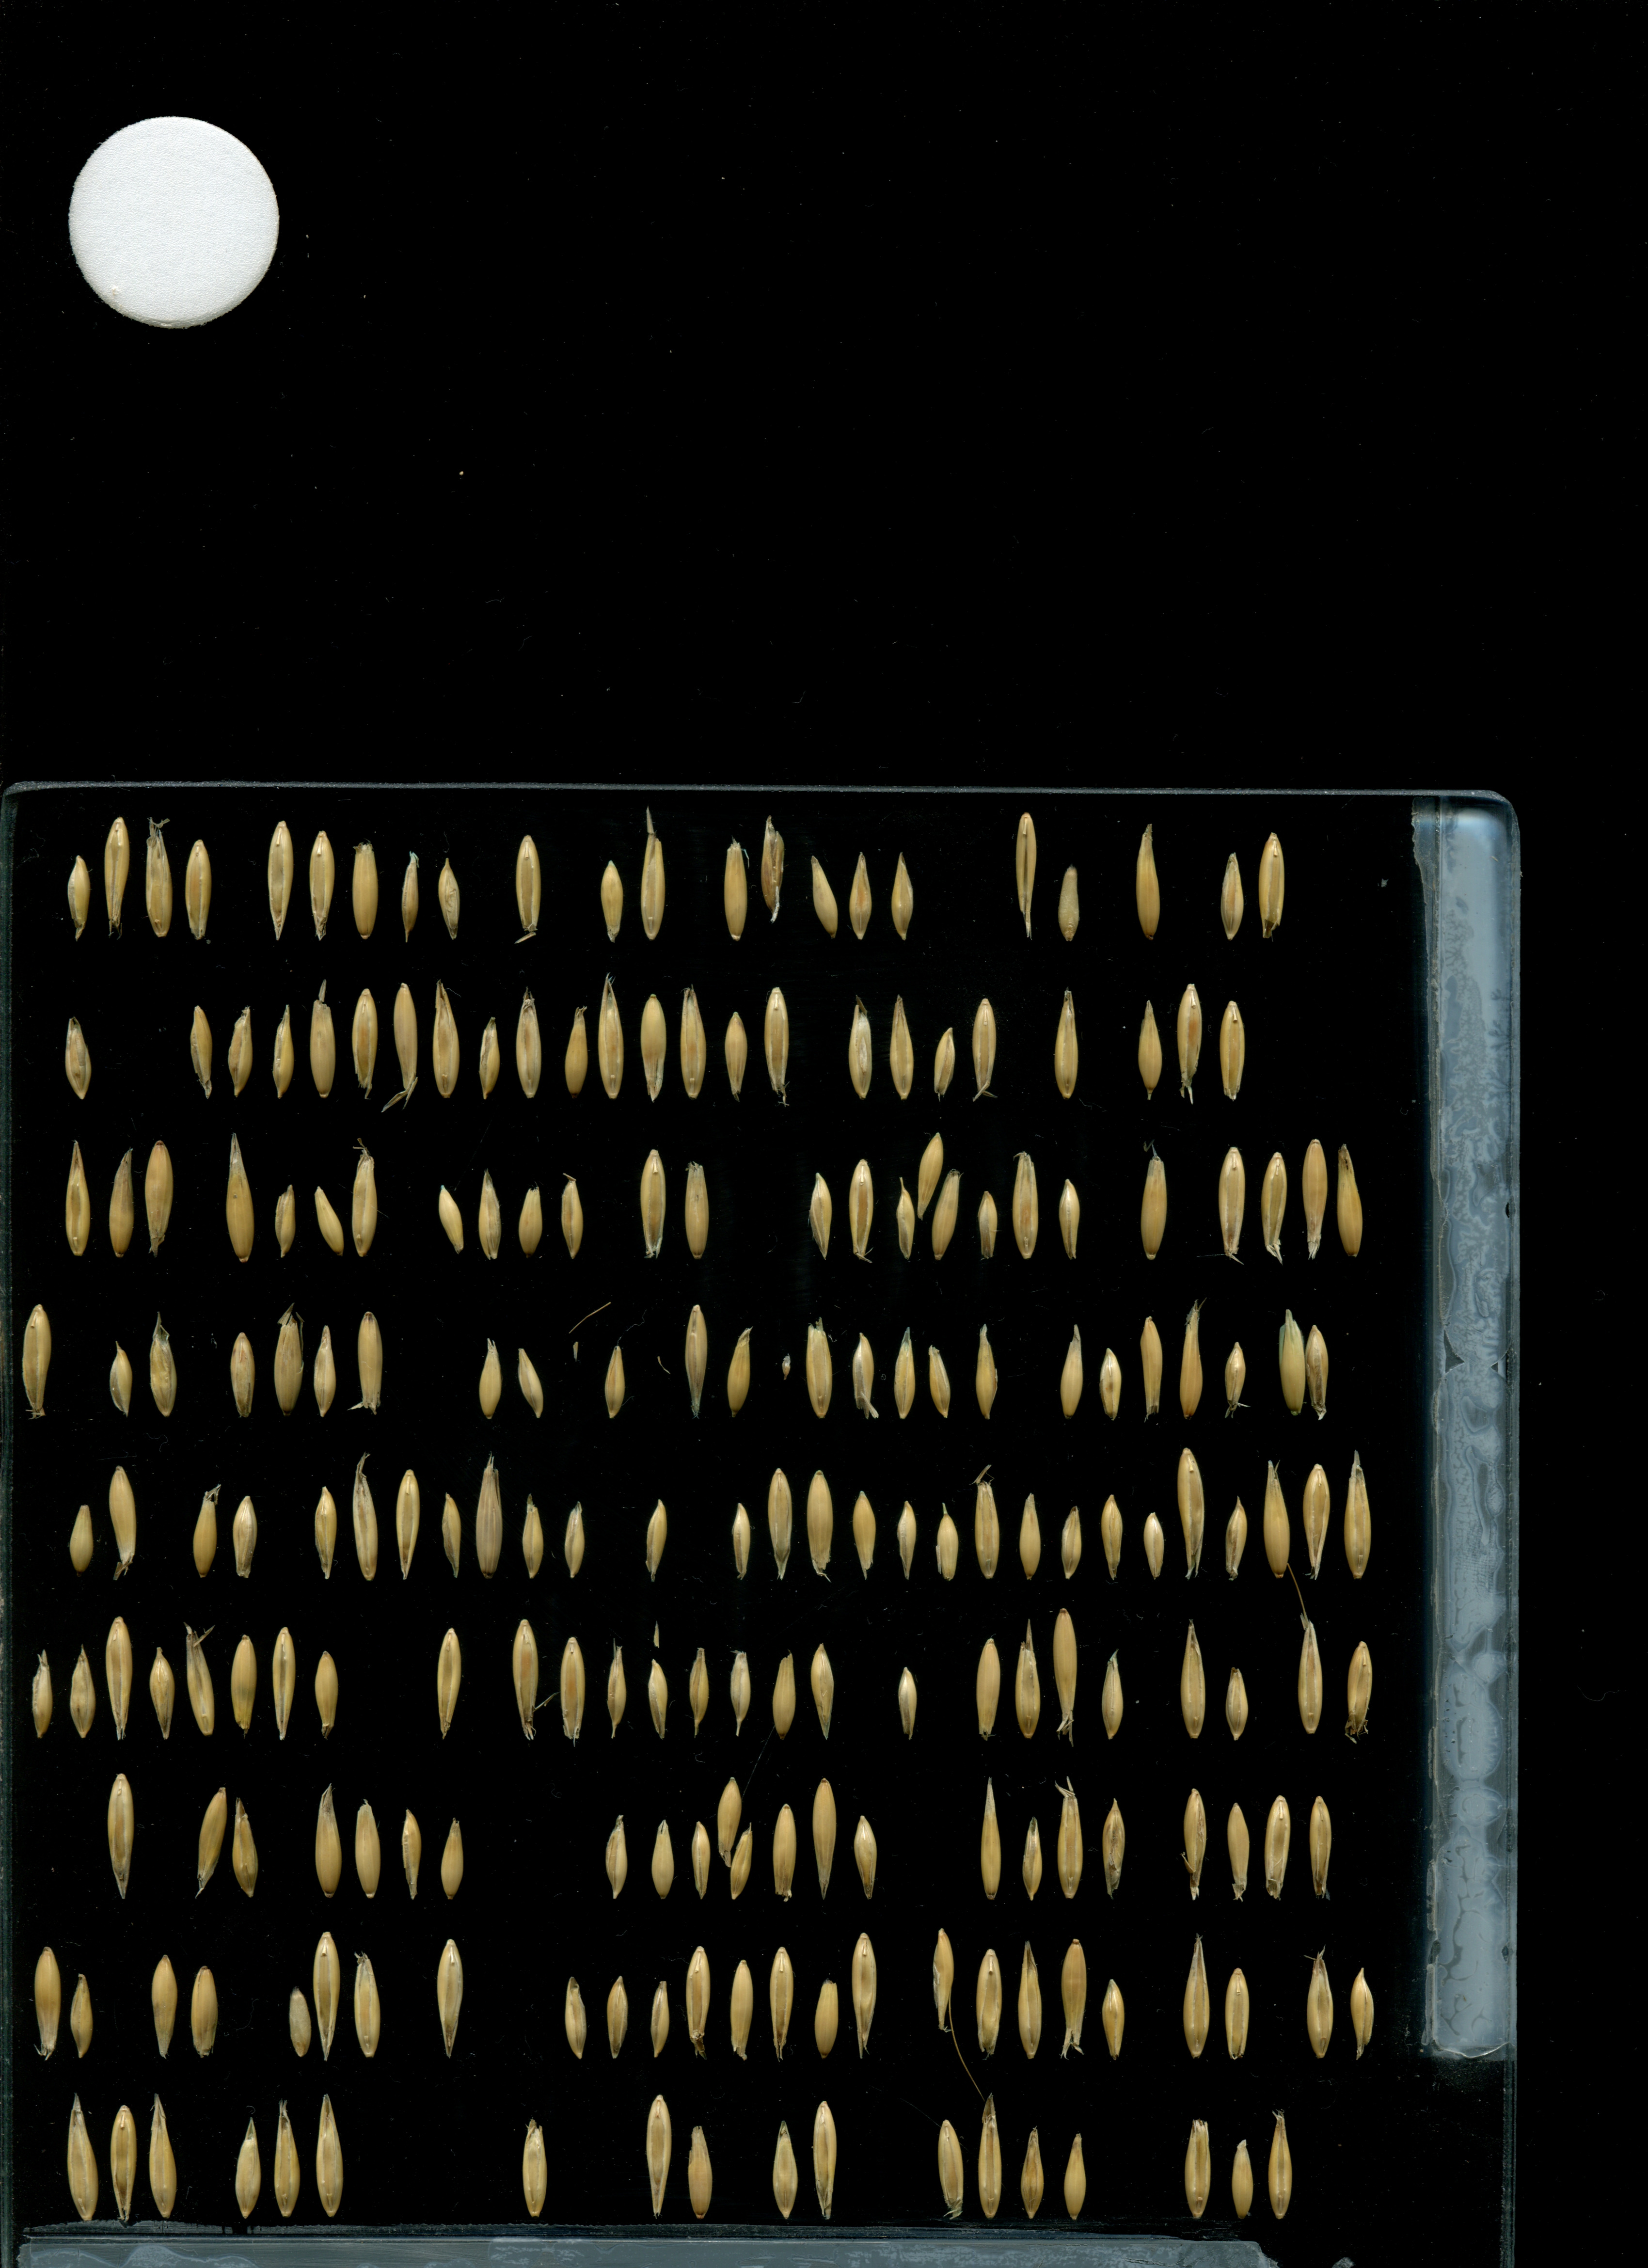WholeGrain: (220, 1125, 261, 1266), (1292, 1608, 1333, 1743), (16, 1301, 60, 1423), (102, 1460, 146, 1581), (347, 1458, 387, 1588), (1173, 1446, 1211, 1581), (1259, 1449, 1298, 1585), (1298, 1451, 1336, 1587), (1340, 1447, 1379, 1583), (1340, 1613, 1379, 1749), (1176, 1613, 1215, 1749), (1048, 1606, 1086, 1741), (1011, 1609, 1049, 1745), (553, 1613, 592, 1749), (507, 1611, 546, 1747), (426, 1611, 465, 1747), (264, 1613, 303, 1749), (225, 1613, 264, 1749), (183, 1609, 222, 1745), (144, 1613, 183, 1749), (102, 1608, 141, 1743), (95, 814, 136, 939), (102, 1768, 139, 1902), (146, 1940, 183, 2074), (185, 1944, 222, 2078), (310, 1928, 347, 2062), (349, 1939, 386, 2073), (430, 1935, 467, 2069), (65, 2090, 102, 2224), (107, 2097, 144, 2231), (143, 2092, 180, 2226), (229, 2099, 266, 2233), (268, 2094, 305, 2227), (310, 2092, 347, 2226), (516, 2097, 553, 2231), (641, 2090, 678, 2224), (683, 2101, 720, 2235), (766, 2102, 803, 2236), (806, 2094, 843, 2227), (935, 2101, 972, 2235), (974, 2099, 1011, 2233), (261, 817, 299, 944), (801, 1460, 840, 1585), (845, 1465, 884, 1590), (887, 1470, 926, 1595), (928, 1469, 967, 1594), (968, 1467, 1007, 1592), (1056, 1465, 1095, 1590), (30, 1937, 65, 2071), (143, 1312, 185, 1423), (474, 1456, 509, 1588), (926, 1923, 961, 2055), (972, 1937, 1007, 2069), (1012, 1937, 1048, 2069), (349, 1786, 387, 1905), (762, 1462, 799, 1587), (1009, 1467, 1046, 1592), (1097, 1465, 1134, 1590), (1134, 1463, 1171, 1588), (1051, 1780, 1090, 1898), (1014, 1787, 1053, 1905), (808, 1777, 847, 1895), (644, 1787, 683, 1905), (433, 1791, 472, 1909), (394, 1791, 433, 1909), (225, 1784, 264, 1902), (195, 1780, 234, 1898), (1134, 1145, 1171, 1268), (1174, 1298, 1211, 1421), (303, 824, 342, 940), (509, 828, 548, 944), (141, 817, 178, 939), (1259, 1145, 1296, 1264), (768, 1786, 805, 1905), (350, 1308, 391, 1417), (849, 1926, 882, 2058), (1180, 1930, 1213, 2062), (1303, 1937, 1336, 2069), (1303, 1789, 1340, 1907), (1261, 1784, 1298, 1902), (1220, 1784, 1257, 1902), (1174, 1780, 1211, 1898), (1095, 1784, 1132, 1902), (972, 1778, 1009, 1896), (847, 1791, 884, 1909), (599, 1791, 636, 1909), (308, 1786, 345, 1903), (1056, 1933, 1090, 2064), (1215, 1138, 1250, 1261), (634, 991, 673, 1102), (1134, 819, 1167, 946), (431, 976, 465, 1102), (636, 1145, 673, 1259), (595, 1636, 634, 1745), (637, 1636, 676, 1745), (680, 1632, 718, 1741), (717, 1632, 755, 1741), (762, 1634, 801, 1743), (805, 1634, 843, 1743), (886, 1643, 924, 1752), (970, 1634, 1009, 1743), (1097, 1634, 1136, 1743), (1218, 1641, 1257, 1750), (273, 1301, 308, 1421), (1299, 1130, 1331, 1263), (180, 833, 218, 940), (65, 1638, 104, 1745), (25, 1638, 63, 1745), (310, 1641, 349, 1749), (1011, 810, 1042, 940), (681, 1296, 713, 1426), (143, 1136, 176, 1259), (391, 1462, 424, 1585), (349, 836, 387, 942), (389, 979, 423, 1101), (1335, 1139, 1368, 1261), (347, 1148, 382, 1263), (62, 1136, 93, 1261), (678, 983, 711, 1101), (347, 984, 380, 1102), (1275, 1303, 1308, 1421), (1174, 979, 1206, 1102), (926, 1160, 963, 1266), (725, 1948, 759, 2064), (764, 1944, 798, 2060), (308, 1477, 343, 1587), (1257, 828, 1289, 947), (681, 1157, 717, 1264), (845, 1153, 879, 1266), (107, 1139, 137, 1264), (718, 836, 754, 942), (967, 993, 1002, 1099), (597, 972, 625, 1104), (1012, 1150, 1046, 1261), (1053, 1321, 1090, 1421), (1349, 1958, 1382, 2069), (761, 984, 792, 1101), (683, 1944, 715, 2060), (1264, 2110, 1296, 2226), (1134, 1312, 1167, 1421), (1060, 2120, 1093, 2229), (60, 1011, 99, 1104), (188, 1483, 224, 1585), (65, 1969, 100, 2071), (599, 1967, 634, 2069), (641, 1965, 676, 2067), (1018, 2118, 1051, 2226), (1224, 2118, 1257, 2226), (637, 1493, 676, 1585), (310, 1317, 343, 1423), (972, 1322, 1007, 1423), (886, 991, 917, 1102), (1051, 986, 1081, 1102), (805, 1321, 838, 1425), (514, 993, 546, 1102), (1220, 1956, 1252, 2065), (1097, 1962, 1129, 2071), (1181, 2115, 1213, 2224), (757, 815, 791, 917), (282, 1976, 315, 2078), (558, 1969, 592, 2071), (810, 1970, 843, 2073), (805, 1166, 840, 1263), (845, 997, 877, 1104), (641, 826, 669, 946), (431, 1488, 467, 1583), (556, 1171, 595, 1257), (805, 852, 842, 942), (887, 847, 921, 946), (229, 1486, 262, 1585), (560, 1000, 592, 1102), (266, 998, 298, 1101), (433, 852, 468, 944), (849, 1331, 884, 1423), (1217, 997, 1247, 1104), (845, 847, 879, 942), (187, 1000, 218, 1101), (308, 993, 336, 1106), (1136, 997, 1166, 1102), (889, 1326, 921, 1425), (720, 1007, 754, 1101), (914, 1125, 947, 1219), (224, 998, 254, 1102), (225, 1326, 257, 1423), (474, 1331, 505, 1428), (512, 1342, 551, 1421), (727, 1493, 759, 1590), (1220, 1486, 1252, 1583), (1055, 1173, 1088, 1264), (104, 1340, 139, 1426), (1306, 1319, 1335, 1426), (475, 1164, 505, 1264), (711, 1771, 745, 1861), (514, 1176, 549, 1261), (396, 849, 426, 947), (1218, 1335, 1252, 1423), (63, 1497, 100, 1576), (516, 1500, 551, 1583), (1218, 845, 1247, 947), (60, 854, 92, 942), (725, 1322, 754, 1421), (560, 1498, 592, 1585), (597, 858, 627, 947), (1056, 863, 1086, 946), (435, 1178, 465, 1261), (725, 1822, 755, 1905), (687, 1815, 713, 1909), (602, 1345, 632, 1426), (926, 1340, 956, 1421), (312, 1183, 343, 1259), (1097, 1342, 1125, 1426), (475, 1014, 502, 1102), (975, 1182, 1002, 1264), (893, 1176, 917, 1264), (931, 1023, 958, 1102), (273, 1178, 298, 1257)
